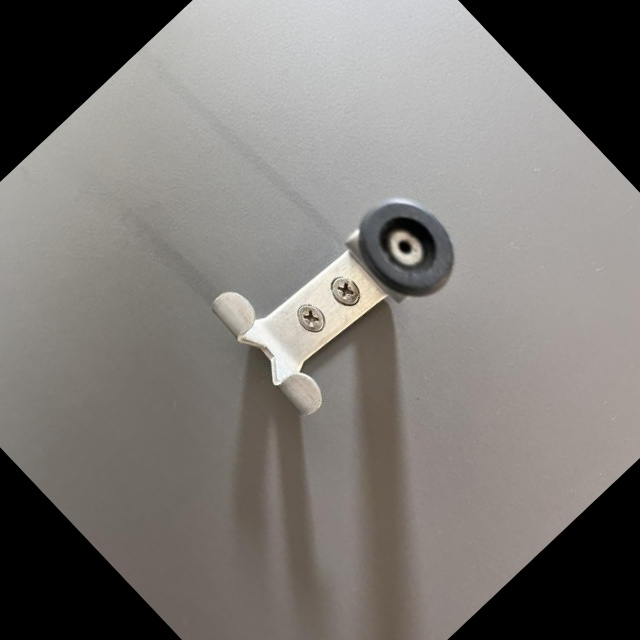phillips: (325, 270, 367, 312), (292, 298, 332, 339)
